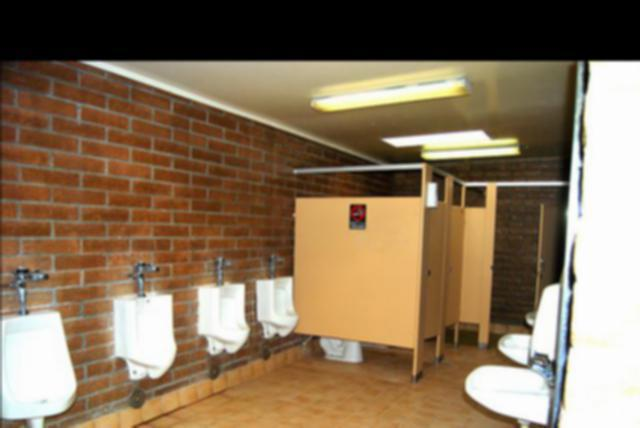Lavamanos: (460, 355, 555, 428), (497, 279, 562, 358), (375, 425, 555, 428)
